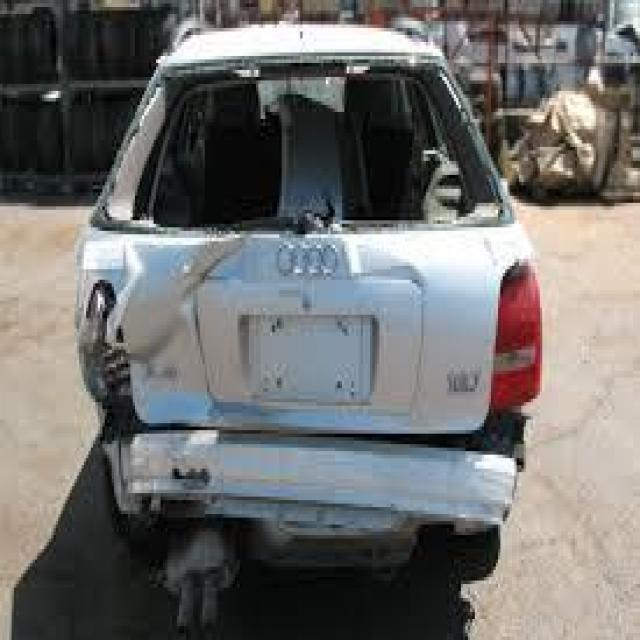damaged: (102, 56, 512, 228), (82, 223, 274, 542)
